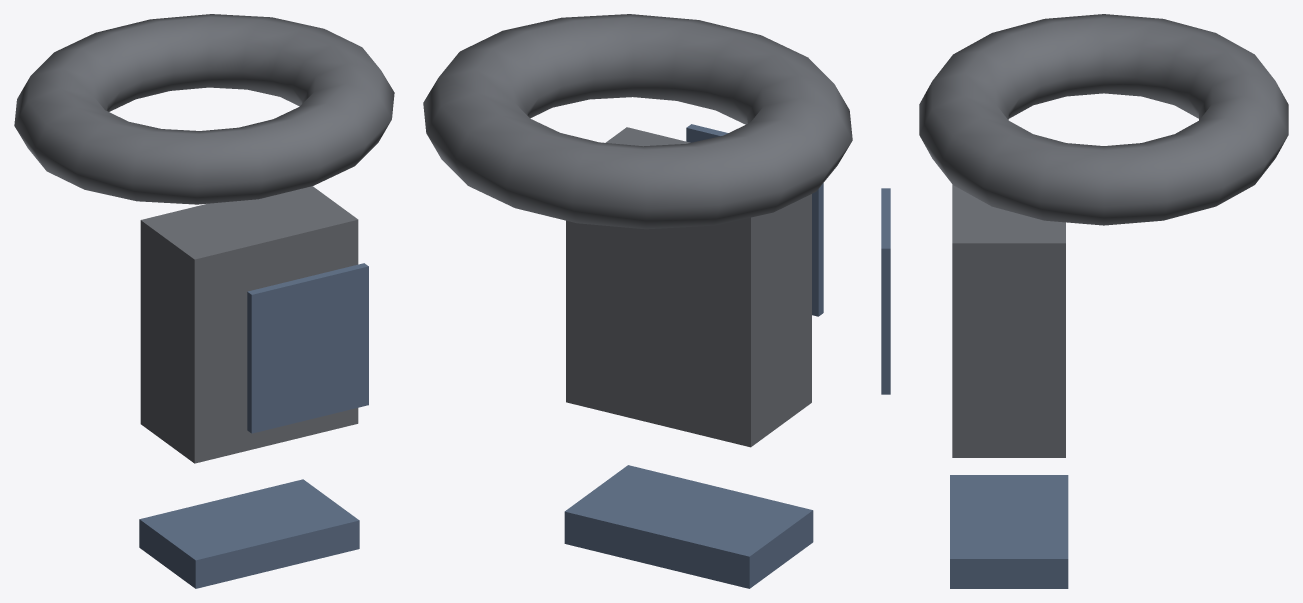
The model's file is wear_jacket.glb.
3 views of the same model, side by side, from view 1: azimuth 30°, elevation 25°; view 2: azimuth 150°, elevation 25°; view 3: azimuth 270°, elevation 25° (orthographic). The views are drawn at different scales.
Visible parts, largest first — view 1: jacket_hoodroll, jacket_torso, jacket_flap, jacket_hem; view 2: jacket_hoodroll, jacket_torso, jacket_hem, jacket_flap; view 3: jacket_hoodroll, jacket_torso, jacket_hem, jacket_flap.
Boxes of the visible parts, x1=… form: jacket_hoodroll: x1=14, y1=14, x2=394, y2=204; jacket_torso: x1=140, y1=186, x2=358, y2=463; jacket_flap: x1=247, y1=263, x2=368, y2=433; jacket_hem: x1=139, y1=479, x2=359, y2=588; jacket_hoodroll: x1=423, y1=14, x2=852, y2=229; jacket_torso: x1=566, y1=127, x2=811, y2=447; jacket_hem: x1=564, y1=465, x2=813, y2=588; jacket_flap: x1=686, y1=124, x2=823, y2=316; jacket_hoodroll: x1=919, y1=14, x2=1288, y2=225; jacket_torso: x1=952, y1=184, x2=1065, y2=457; jacket_hem: x1=950, y1=475, x2=1068, y2=588; jacket_flap: x1=881, y1=188, x2=890, y2=394.
Size of the model in its own units: 0.4356 by 0.5383 by 0.43.
